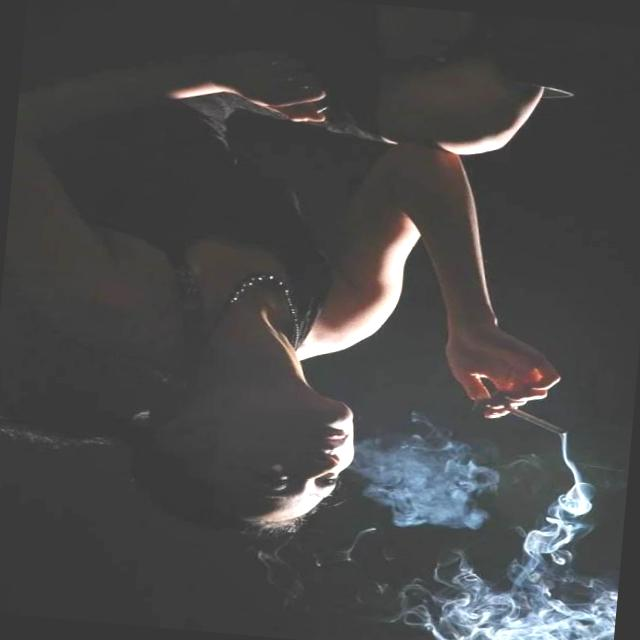cigarette: (475, 389, 581, 446)
